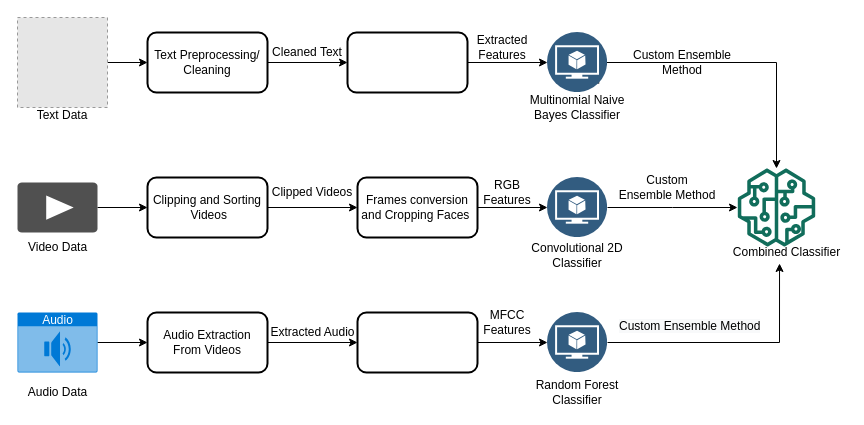
Image size: 864x425. Some labels were removed from this diagram. Grey dashed boxes stand in for pictures. Here are the shapes that lost their labels. From the top down, the centre of each, then its label:
At [407,62]: "Vectorization".
At [417,342]: "Feature Extraction".
